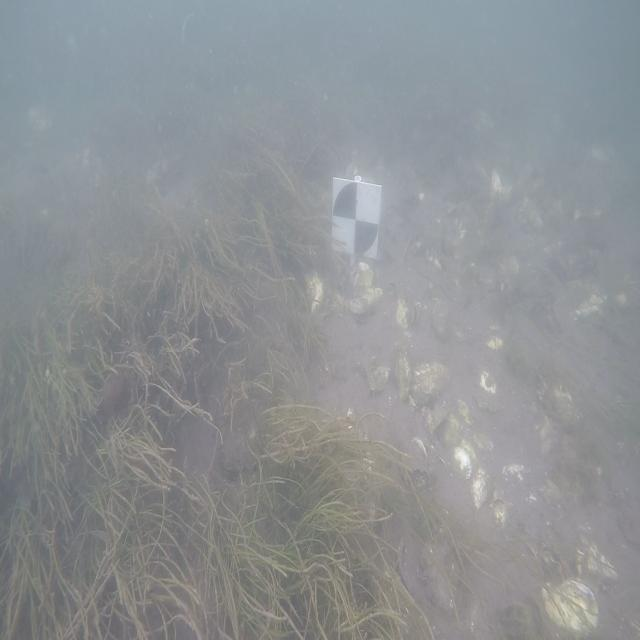Oyster- Indeterminate: (396, 527, 430, 611), (409, 436, 432, 472)
Oyster-Closed: (541, 580, 599, 636), (411, 362, 449, 407), (351, 262, 382, 304), (472, 425, 499, 468), (349, 287, 382, 322), (476, 371, 499, 412), (394, 349, 411, 400), (421, 404, 448, 433), (305, 271, 324, 312), (471, 469, 488, 509), (396, 296, 416, 329), (454, 447, 472, 480), (445, 413, 461, 447), (368, 367, 390, 391)
